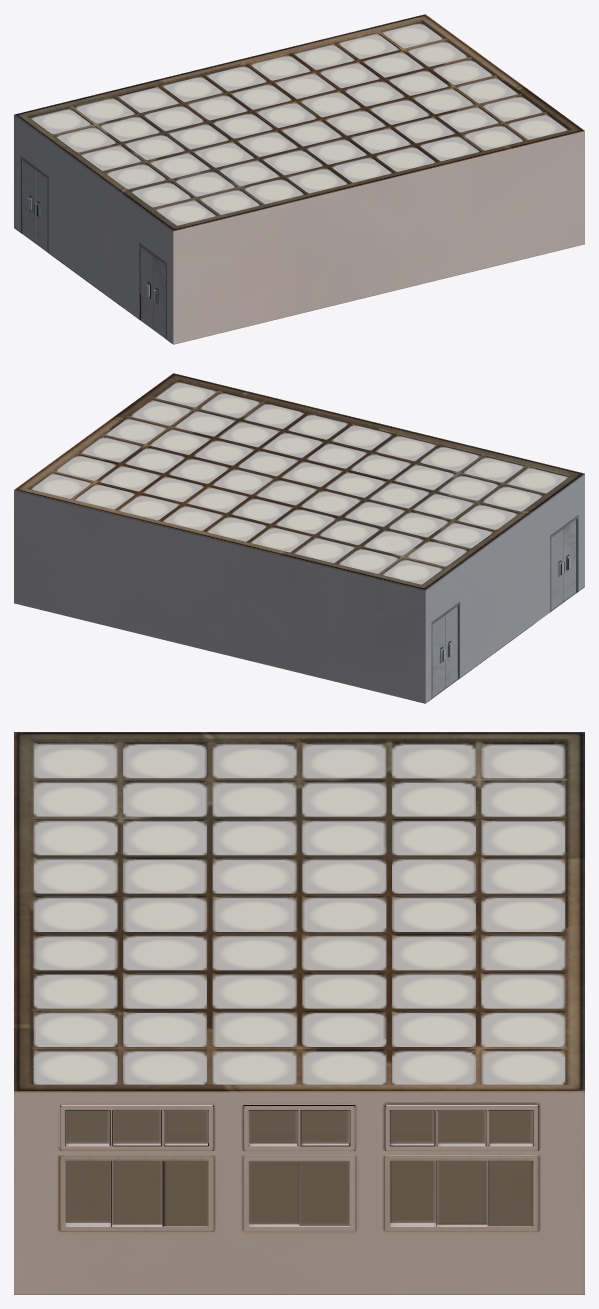
The model's file is classroomPro.glb.
The picture shows the model from 3 angles, top to bottom: view 1: azimuth 30°, elevation 25°; view 2: azimuth 150°, elevation 25°; view 3: azimuth 270°, elevation 25°; orthographic projection. The views are drawn at different scales.
Parts seen in each view (by area): view 1: 天花板_Baked, 房间主体_Baked, 立方体.003_Baked, 立方体.007_Baked, 立方体.002_Baked, 立方体.006_Baked, 立方体.001_Baked; view 2: 天花板_Baked, 房间主体_Baked, 立方体.006_Baked, 立方体.002_Baked, 立方体.003_Baked, 立方体.007_Baked, 立方体.005_Baked; view 3: 天花板_Baked, 房间主体_Baked, 窗户2_Baked, 窗户2.001_Baked, 窗户1_Baked, 小窗户2_Baked, 小窗户2.001_Baked, 小窗户1_Baked.
Part boxes in pixels (x1,y1,x2,y2): 天花板_Baked: (14, 14, 584, 231); 房间主体_Baked: (14, 115, 584, 344); 立方体.003_Baked: (22, 160, 35, 242); 立方体.007_Baked: (141, 247, 153, 328); 立方体.002_Baked: (35, 169, 47, 251); 立方体.006_Baked: (153, 256, 165, 338); 立方体.001_Baked: (20, 157, 48, 252); 天花板_Baked: (14, 373, 584, 590); 房间主体_Baked: (14, 474, 584, 703); 立方体.006_Baked: (563, 519, 576, 601); 立方体.002_Baked: (445, 606, 457, 688); 立方体.003_Baked: (432, 615, 445, 697); 立方体.007_Baked: (551, 528, 563, 610); 立方体.005_Baked: (550, 516, 578, 611); 天花板_Baked: (14, 732, 584, 1091); 房间主体_Baked: (14, 1091, 584, 1294); 窗户2_Baked: (385, 1155, 538, 1231); 窗户2.001_Baked: (60, 1155, 213, 1231); 窗户1_Baked: (243, 1155, 355, 1232); 小窗户2_Baked: (385, 1104, 538, 1150); 小窗户2.001_Baked: (60, 1104, 213, 1150); 小窗户1_Baked: (243, 1104, 355, 1150).
Bounding box in the file's own units: 30.62 × 8.01 × 20.4.
1 material, 1 textured.
